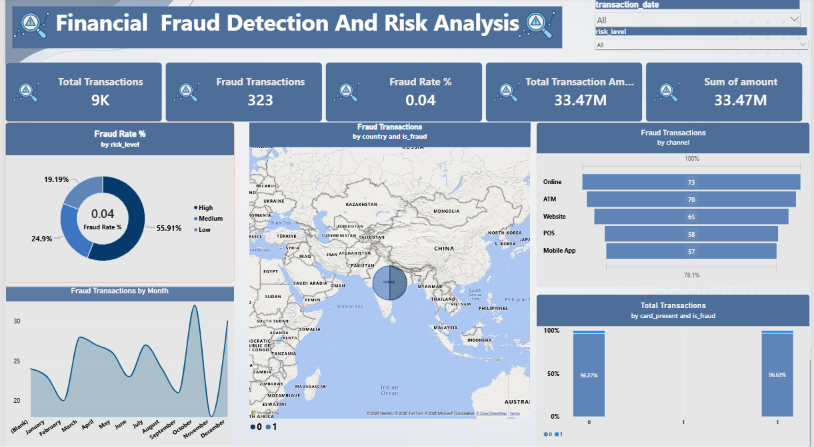

The dashboard page shown, as its layout file describes it:
{"tool":"powerbi","page":{"name":"Dashboard","canvas":[1920,1080],"ordinal":1},"visuals":[{"type":"textbox","box":[16.7,21.5,1312.3,100.2],"z":0},{"type":"cardVisual","fields":{"Data":["cleaned_data.Total Transactions","cleaned_data.Fraud Transactions","cleaned_data.Fraud Rate %","cleaned_data.Total Transaction Amount","Sum(cleaned_data.amount)"]},"box":[0,155,1902.5,142.5],"z":1000},{"type":"image","box":[16.7,11.9,90.7,109.8],"z":2000},{"type":"image","box":[1207.3,19.1,121.7,93.1],"z":3000},{"type":"donutChart","fields":{"Category":["cleaned_data.risk_level"],"Y":["cleaned_data.Fraud Rate %"]},"box":[0,298.2,546.4,381.7],"z":4000},{"type":"areaChart","fields":{"Category":["cleaned_data.transaction_date.Variation.Date Hierarchy.Month"],"Y":["cleaned_data.Fraud Transactions"]},"box":[0,690,546,382],"z":5000},{"type":"map","fields":{"Category":["cleaned_data.country"],"Series":["cleaned_data.is_fraud"],"Size":["cleaned_data.Fraud Transactions"]},"box":[582.2,298.2,670.4,744.4],"z":6000},{"type":"funnel","fields":{"Category":["cleaned_data.channel"],"Y":["cleaned_data.Fraud Transactions"]},"box":[1267.5,297.5,652.5,392.5],"z":7000},{"type":"hundredPercentStackedColumnChart","fields":{"Category":["cleaned_data.card_present"],"Series":["cleaned_data.is_fraud"],"Y":["cleaned_data.Total Transactions"]},"box":[1267.5,707.5,652.5,365],"z":8000},{"type":"slicer","fields":{"Values":["cleaned_data.transaction_date"]},"box":[1400,5,502.5,125],"z":9000},{"type":"slicer","fields":{"Values":["cleaned_data.risk_level"]},"box":[1400,72.5,520,82.5],"z":10000}]}

Visuals, with their boxes in screenshot pixels (x1, y1, x2, y2), scaled from the page's 1920x1080 canvas onto the 814x447 screenshot:
textbox: box=[7, 9, 563, 50]
cardVisual - cleaned_data.Total Transactions x cleaned_data.Fraud Transactions: box=[0, 64, 807, 123]
image: box=[7, 5, 46, 50]
image: box=[512, 8, 563, 46]
donutChart - cleaned_data.risk_level x cleaned_data.Fraud Rate %: box=[0, 123, 232, 281]
areaChart - cleaned_data.transaction_date.Variation.Date Hierarchy.Month x cleaned_data.Fraud Transactions: box=[0, 286, 231, 444]
map - cleaned_data.country x cleaned_data.is_fraud: box=[247, 123, 531, 432]
funnel - cleaned_data.channel x cleaned_data.Fraud Transactions: box=[537, 123, 813, 286]
hundredPercentStackedColumnChart - cleaned_data.card_present x cleaned_data.is_fraud: box=[537, 293, 813, 444]
slicer - cleaned_data.transaction_date: box=[594, 2, 807, 54]
slicer - cleaned_data.risk_level: box=[594, 30, 813, 64]
